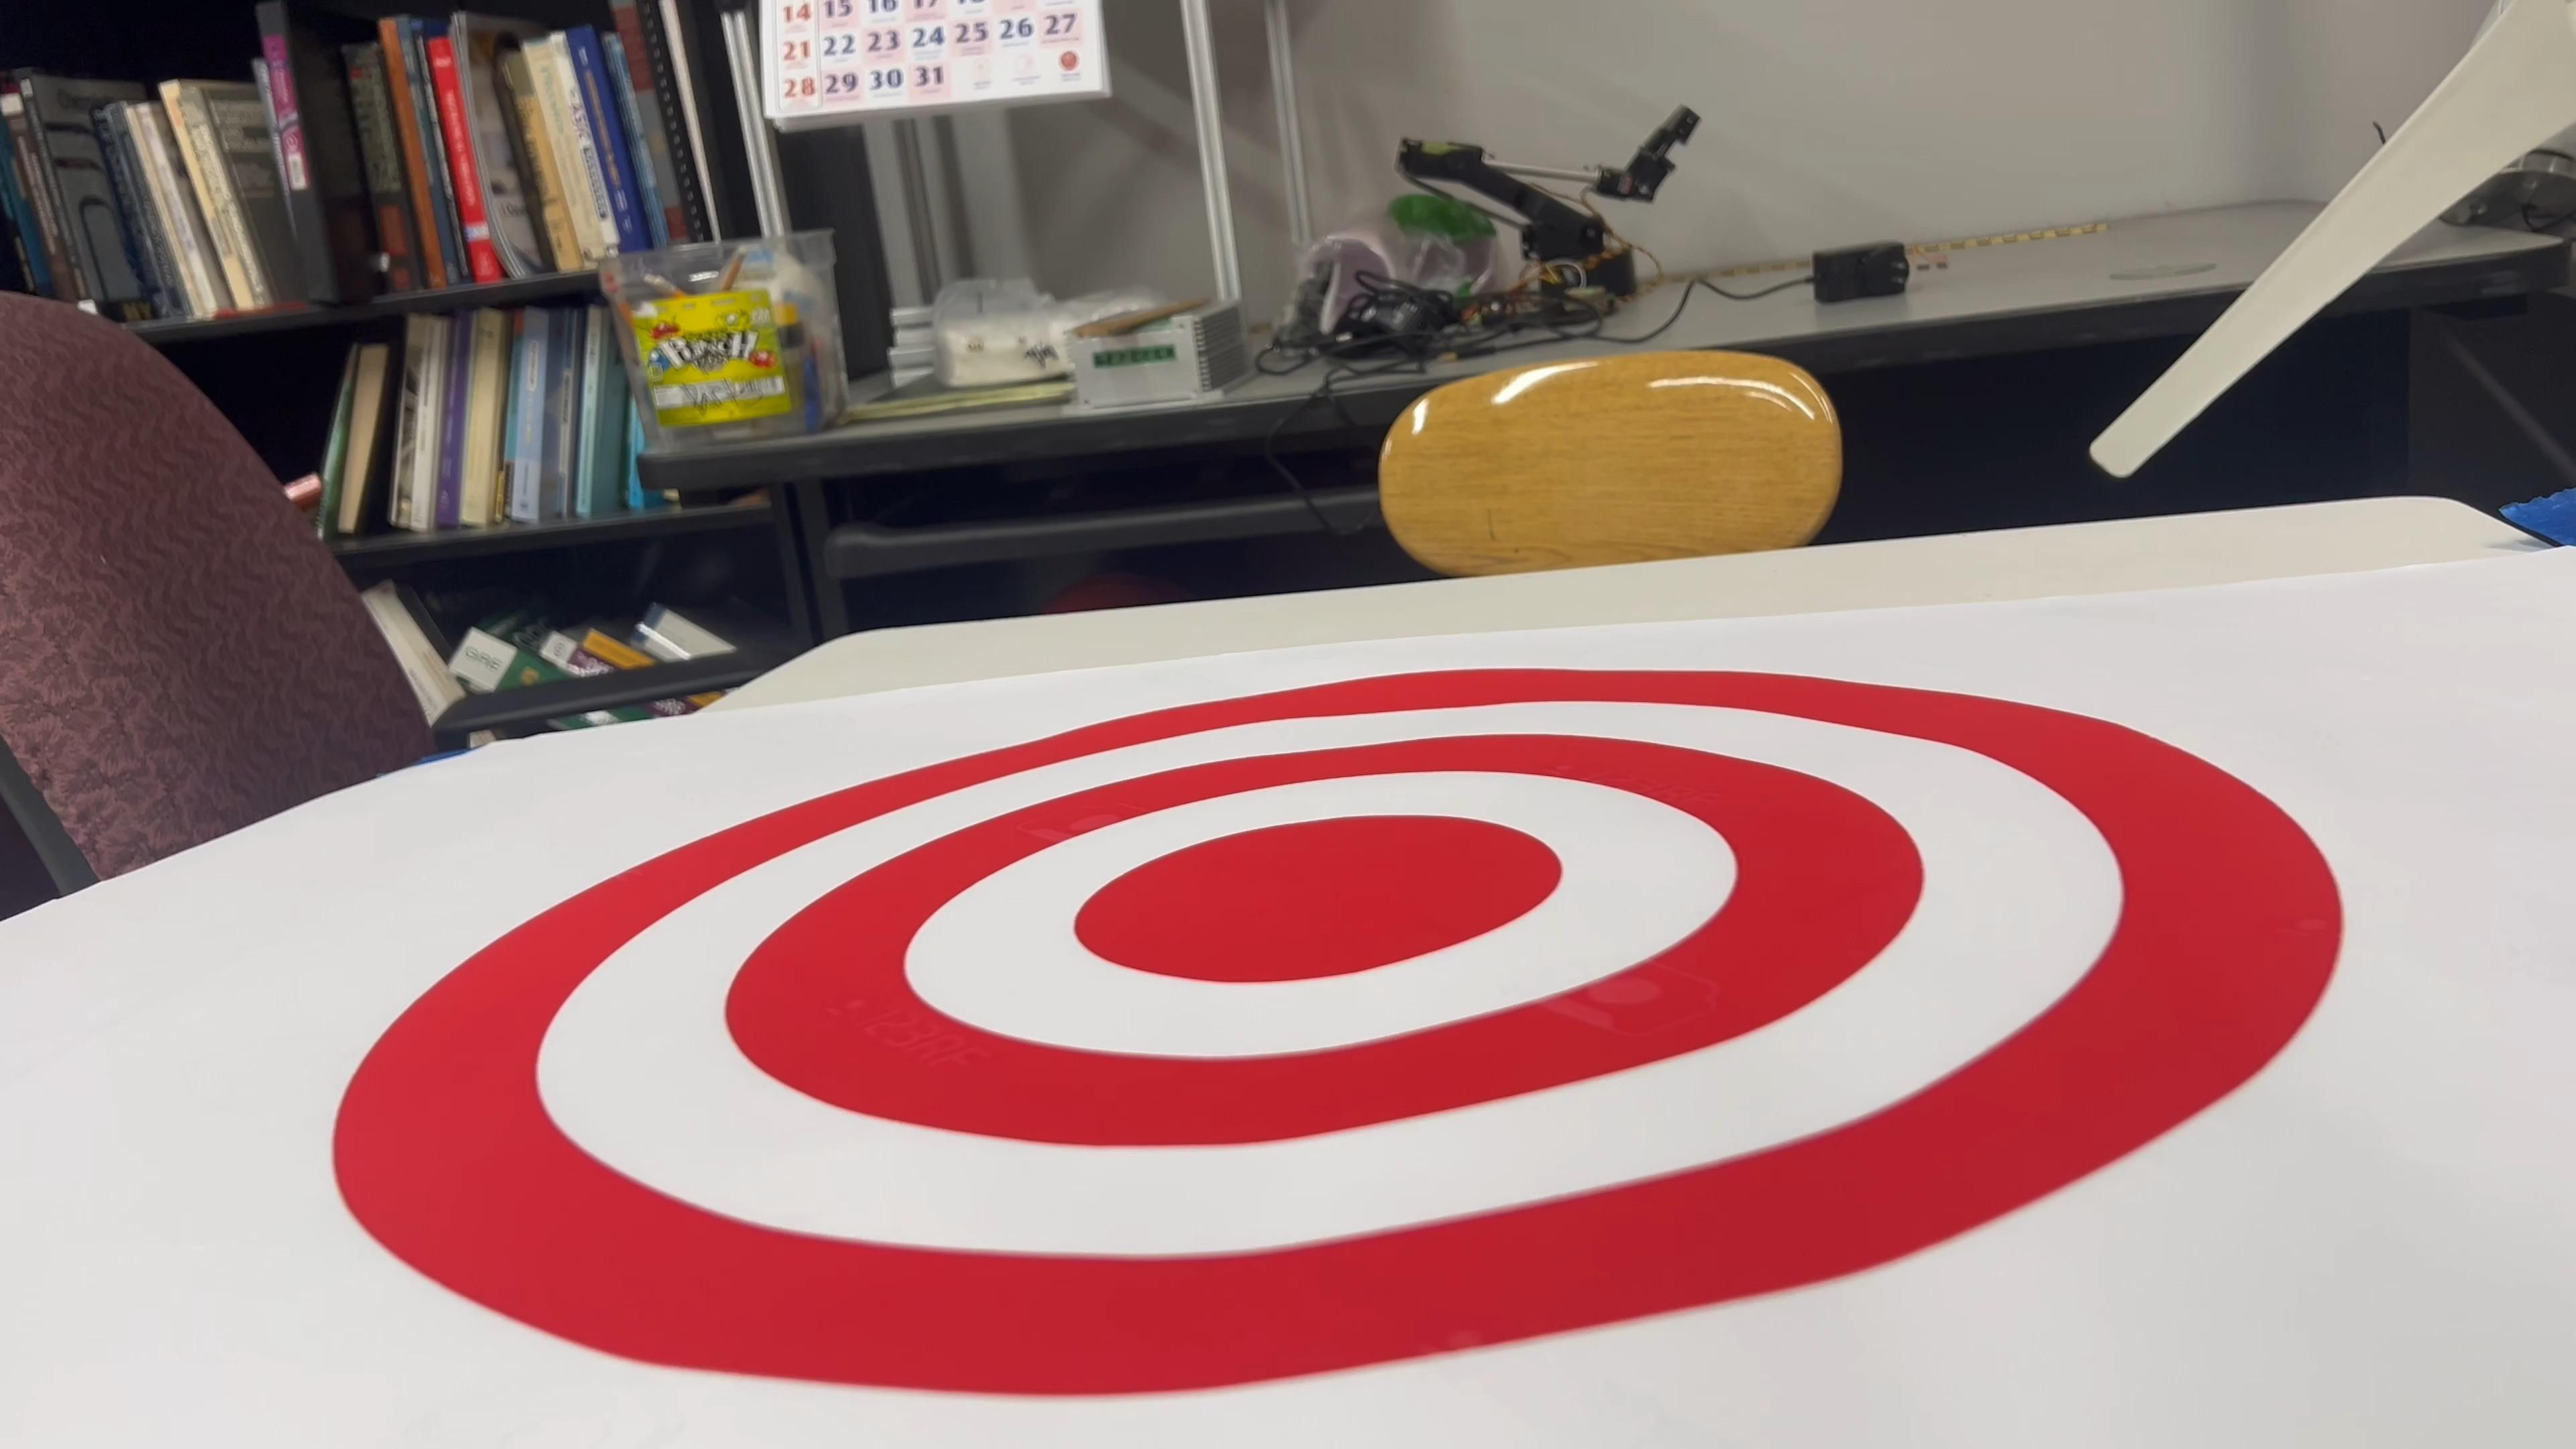target_red: (300, 632, 2365, 1426)
